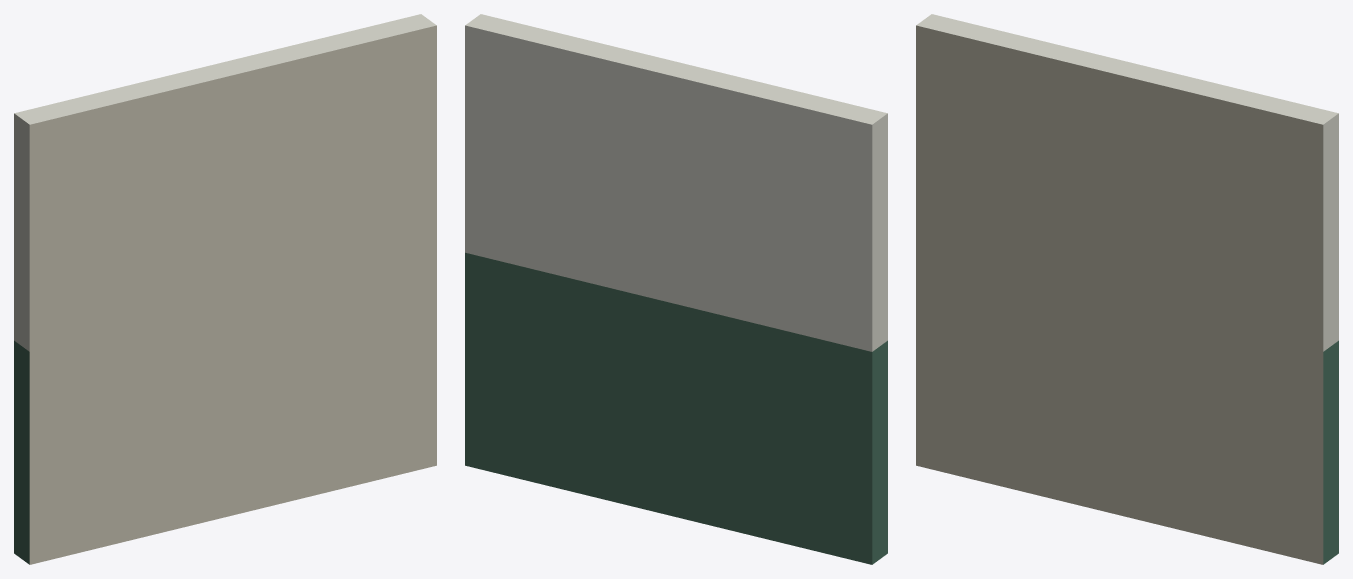
The model's file is hosp_wall_ext.glb.
3 views of the same model, side by side, from view 1: azimuth 30°, elevation 25°; view 2: azimuth 150°, elevation 25°; view 3: azimuth 330°, elevation 25° (orthographic).
Visible parts, largest first — view 1: hosp_wall_ext-col; view 2: hosp_wall_ext-col; view 3: hosp_wall_ext-col.
Part boxes in pixels (x1=…): hosp_wall_ext-col: x1=14, y1=14, x2=436, y2=564; hosp_wall_ext-col: x1=465, y1=14, x2=887, y2=564; hosp_wall_ext-col: x1=916, y1=14, x2=1338, y2=564.
Bounding box in the file's own units: 3 × 3.1 × 0.2.
